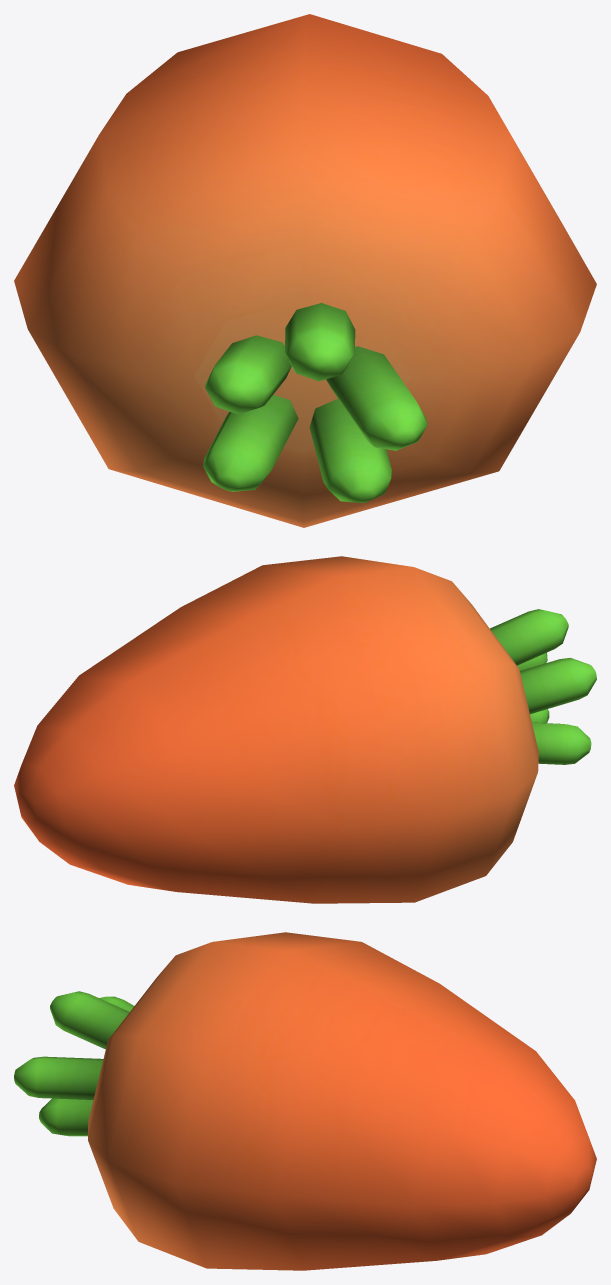
Rendered from carrot.fbx.
3 renders of one model, top to bottom at view 1: azimuth 30°, elevation 25°; view 2: azimuth 150°, elevation 25°; view 3: azimuth 270°, elevation 25°, orthographic. The views are drawn at different scales.
Visible parts, largest first — view 1: carrot; view 2: carrot; view 3: carrot.
Boxes of the visible parts, <box> form: carrot: <box>14,14,596,527</box>; carrot: <box>14,556,596,903</box>; carrot: <box>14,932,596,1270</box>.
Size of the model in its own units: 0.2369 by 0.1754 by 0.3027.
